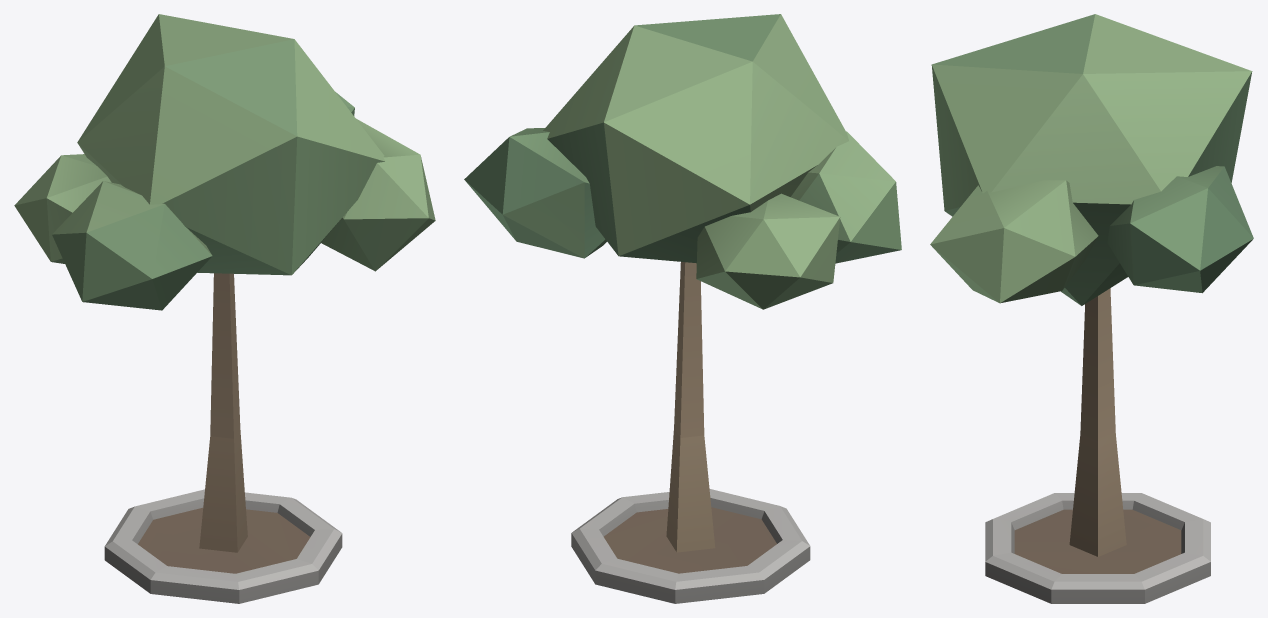
The model's file is tree2.lod2.glb.
3 views of the same model, side by side, from view 1: azimuth 30°, elevation 25°; view 2: azimuth 150°, elevation 25°; view 3: azimuth 270°, elevation 25° (orthographic).
Size of the model in its own units: 3.96 by 5.43 by 3.1.
